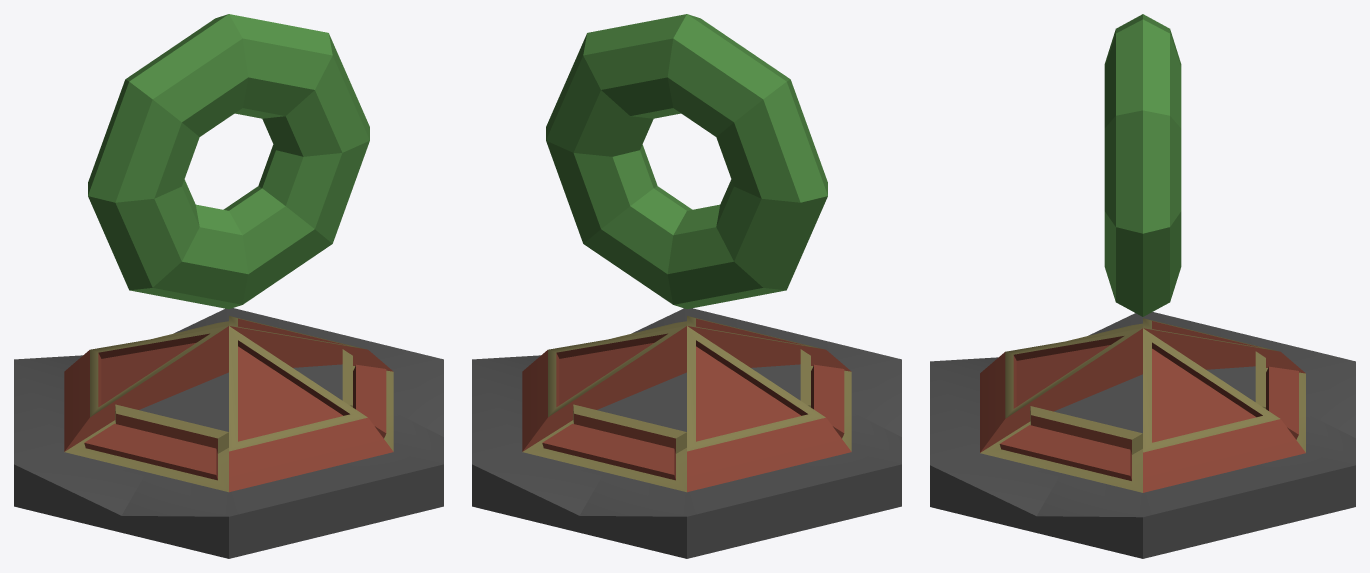
Rendered from BeChan.fbx.
3 renders of one model, left to right at view 1: azimuth 30°, elevation 25°; view 2: azimuth 150°, elevation 25°; view 3: azimuth 270°, elevation 25°, orthographic.
Visible parts, largest first — view 1: pCylinder3; view 2: pCylinder3; view 3: pCylinder3.
Part boxes in pixels (x1=…): pCylinder3: x1=14, y1=14, x2=443, y2=558; pCylinder3: x1=472, y1=14, x2=901, y2=558; pCylinder3: x1=930, y1=14, x2=1355, y2=558.
Size of the model in its own units: 3.2 by 3.13 by 2.77.
